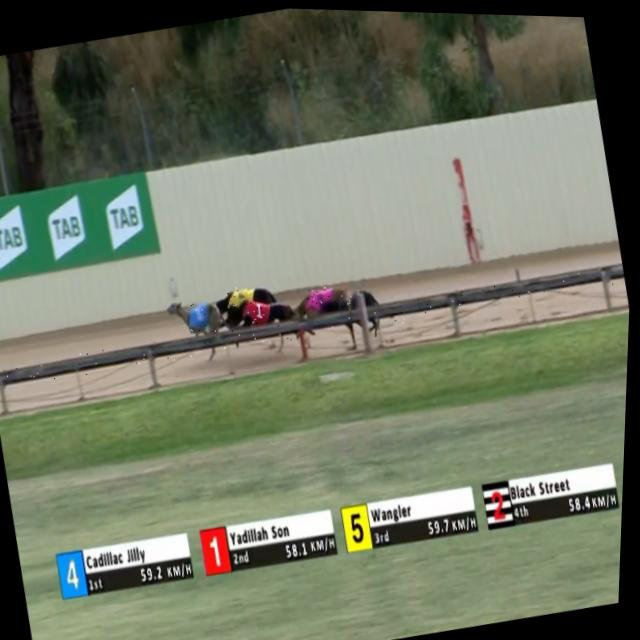dog_eight: (308, 284, 335, 311)
dog_five: (229, 285, 254, 312)
dog_four: (188, 297, 217, 337)
dog_one: (248, 297, 278, 328)
dog_seven: (340, 285, 364, 319)
rail: (0, 260, 627, 389)
